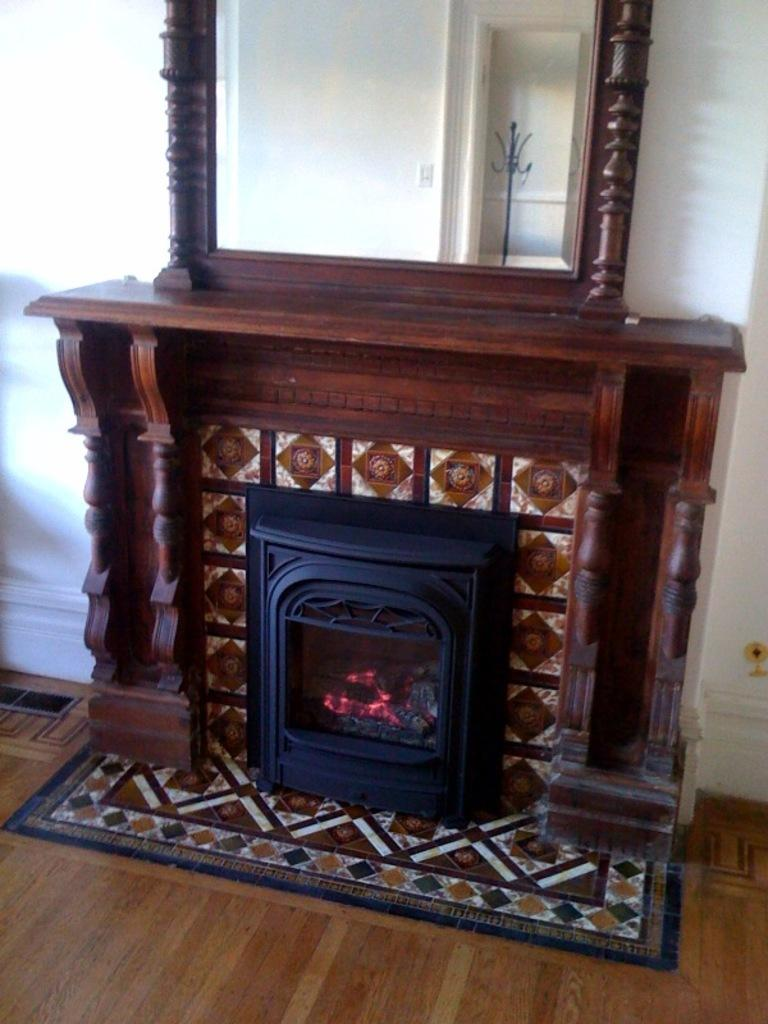Fire: (334, 673, 395, 722)
